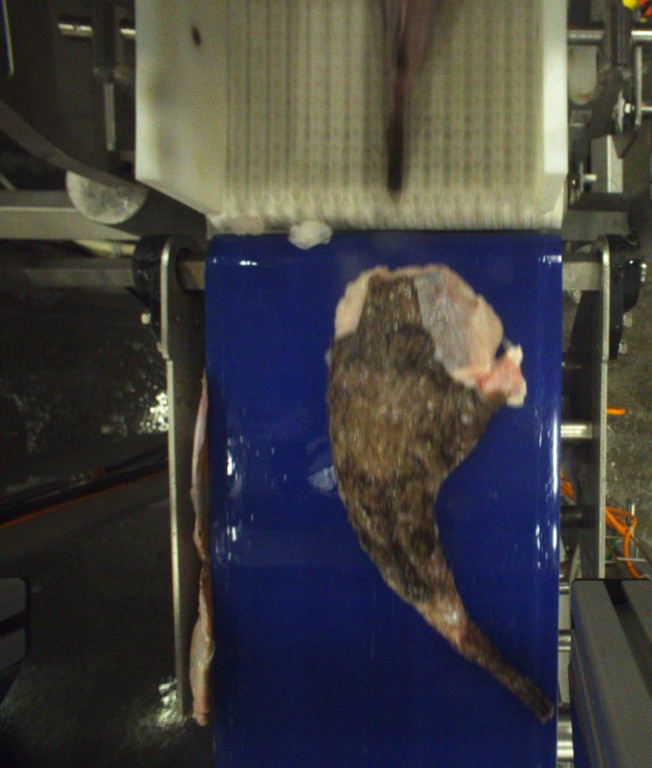ANF: (331, 257, 555, 724)
